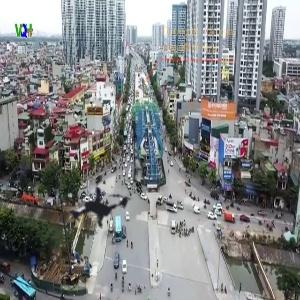drone: (36, 146, 156, 266)
